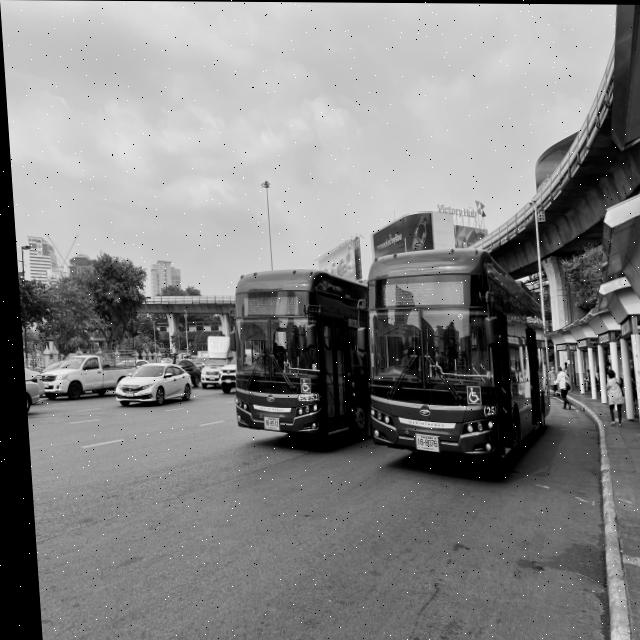Bus-Line-Number: (441, 278, 463, 305), (279, 295, 297, 315)
Destination-Sign-Normal: (375, 282, 433, 306), (237, 296, 280, 316)
TSB-Bus: (354, 249, 548, 470), (221, 269, 372, 448)
